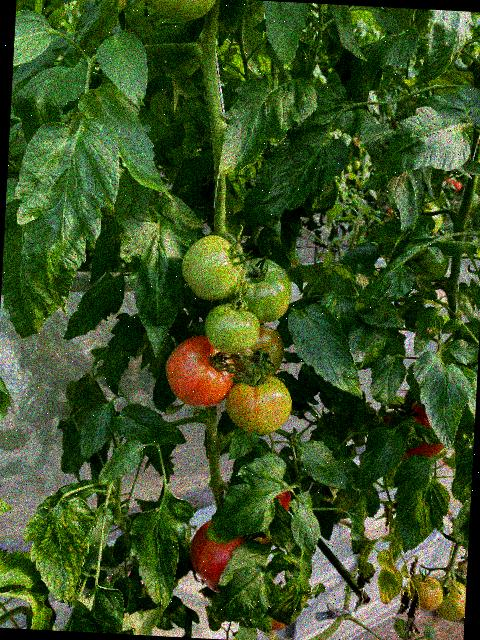b_green: (226, 257, 294, 326), (223, 373, 295, 437), (180, 233, 245, 303), (203, 302, 261, 357), (137, 0, 218, 23), (411, 248, 450, 284)
b_half_ripened: (163, 333, 238, 410), (188, 518, 247, 594), (229, 322, 285, 383), (405, 574, 444, 612), (434, 579, 467, 623)
